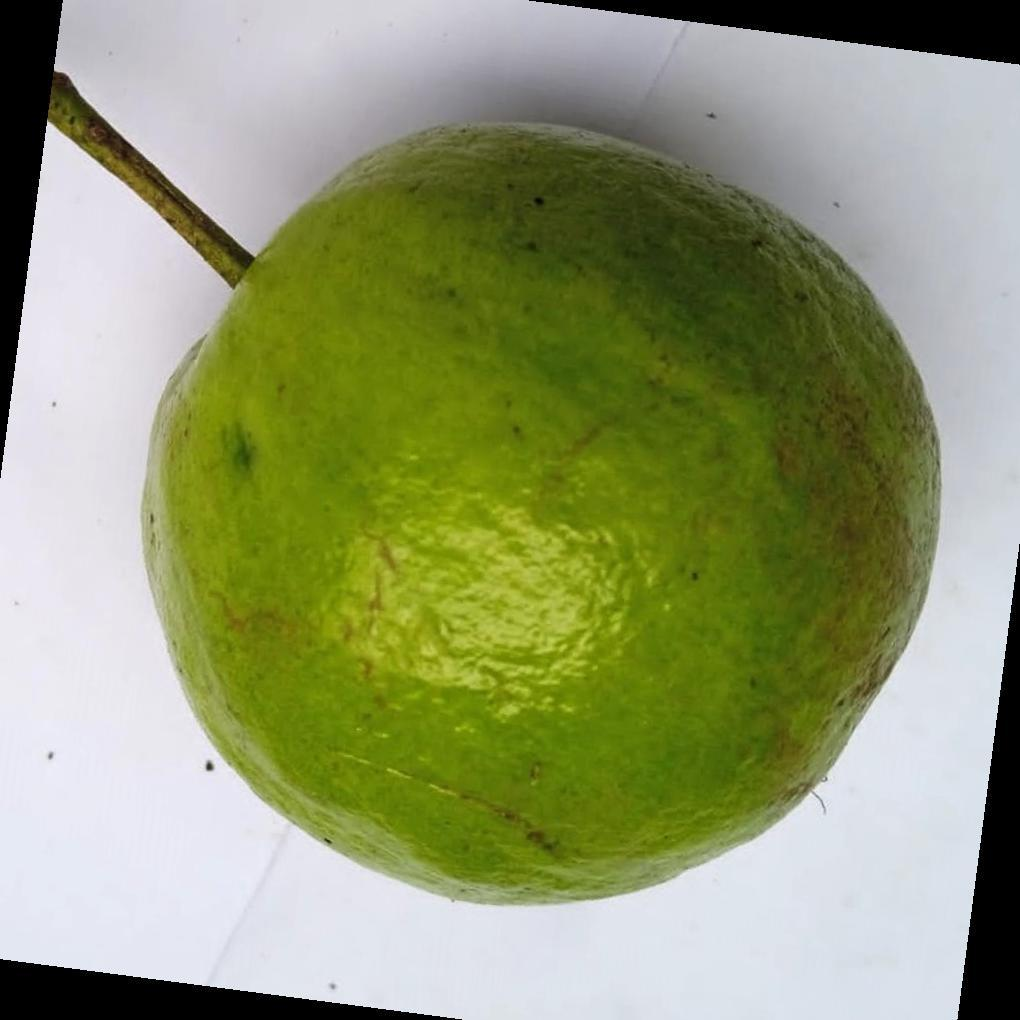FreshGuava: (139, 123, 941, 911)
